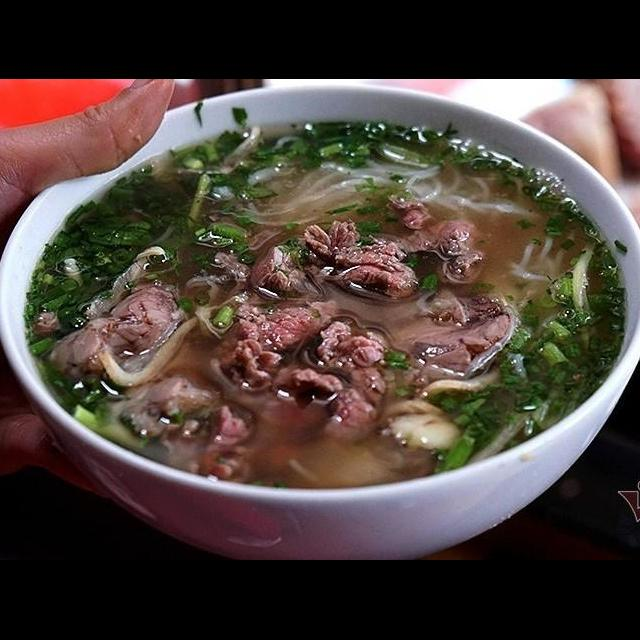banh pho: (246, 130, 545, 222)
pho bo: (49, 153, 640, 559)
thit bo: (247, 200, 490, 306), (195, 244, 342, 400), (266, 316, 427, 446), (108, 372, 265, 498), (36, 272, 195, 396), (369, 280, 528, 402), (25, 240, 170, 340)
